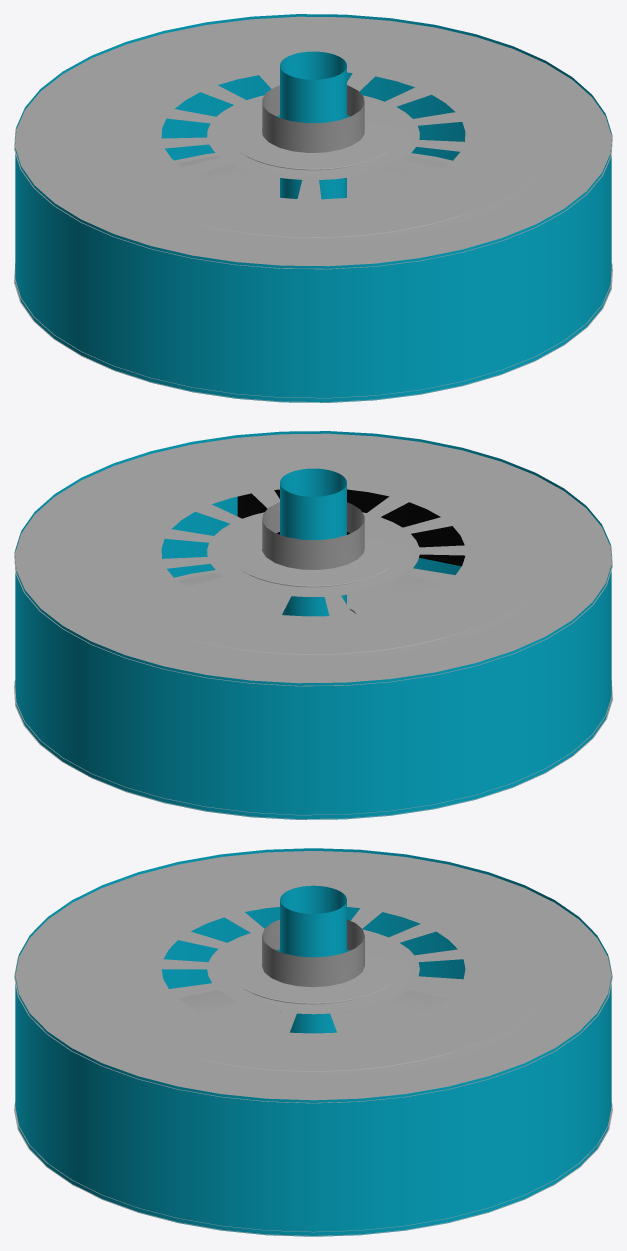
File: env_UV_ready_v06.fbx
The picture shows the model from 3 angles, top to bottom: view 1: azimuth 30°, elevation 25°; view 2: azimuth 150°, elevation 25°; view 3: azimuth 270°, elevation 25°; orthographic projection.
Visible parts, largest first — view 1: wall, celling_c, celling_b, celling_a, celling_d, center, floor, light_floor; view 2: wall, celling_c, celling_b, celling_a, celling_d, center, floor, bigMoniter, light_floor; view 3: wall, celling_c, celling_b, celling_a, celling_d, center, floor, light_floor.
Boxes of the visible parts, left/top/right/bottom form: wall: left=15, top=14, right=611, bottom=402; celling_c: left=73, top=33, right=553, bottom=236; celling_b: left=34, top=21, right=592, bottom=257; celling_a: left=14, top=16, right=612, bottom=269; celling_d: left=225, top=85, right=401, bottom=168; center: left=280, top=51, right=346, bottom=199; floor: left=14, top=156, right=612, bottom=402; light_floor: left=14, top=153, right=612, bottom=398; wall: left=15, top=431, right=611, bottom=819; celling_c: left=73, top=450, right=553, bottom=653; celling_b: left=34, top=438, right=592, bottom=674; celling_a: left=14, top=433, right=612, bottom=686; celling_d: left=225, top=502, right=401, bottom=585; center: left=280, top=468, right=346, bottom=616; floor: left=14, top=573, right=612, bottom=819; bigMoniter: left=237, top=489, right=465, bottom=566; light_floor: left=14, top=570, right=612, bottom=815; wall: left=15, top=848, right=611, bottom=1236; celling_c: left=73, top=867, right=553, bottom=1070; celling_b: left=34, top=855, right=592, bottom=1091; celling_a: left=14, top=851, right=612, bottom=1103; celling_d: left=225, top=919, right=401, bottom=1002; center: left=280, top=885, right=346, bottom=1033; floor: left=14, top=990, right=612, bottom=1236; light_floor: left=14, top=989, right=612, bottom=1232.
Bounding box in the file's own units: 3541 × 1376 × 3541.
